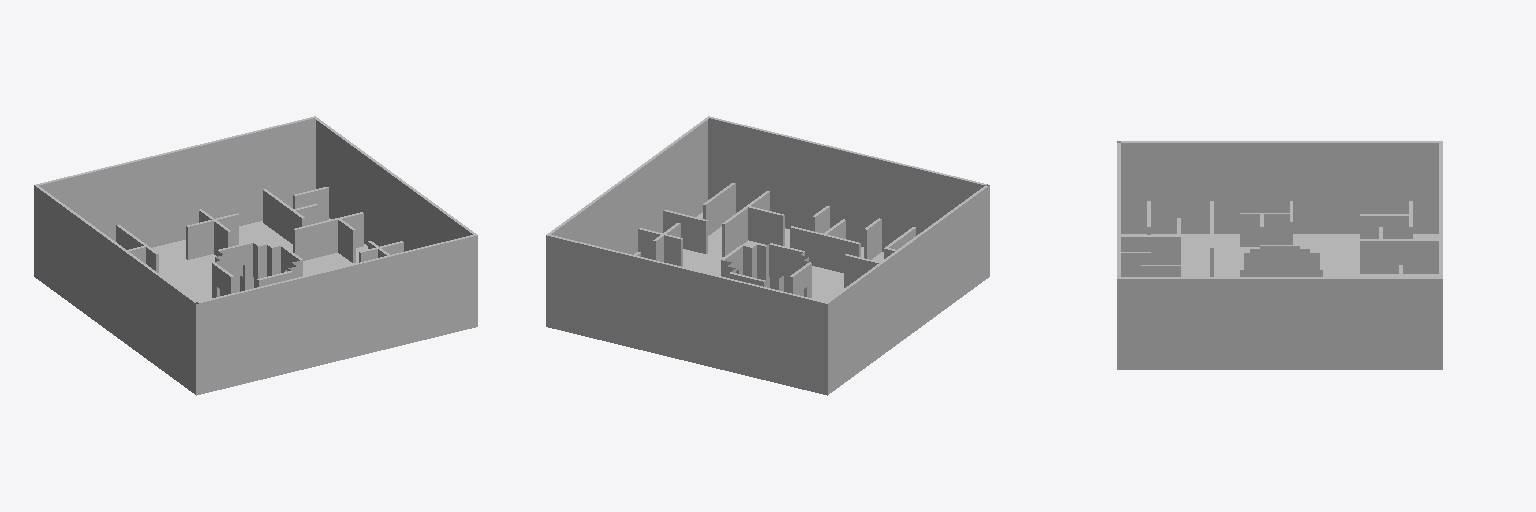
The model's file is arenaTest.obj.
3 views of the same model, side by side, from view 1: azimuth 30°, elevation 25°; view 2: azimuth 150°, elevation 25°; view 3: azimuth 270°, elevation 25° (orthographic).
Parts seen in each view (by area): view 1: Plane; view 2: Plane; view 3: Plane.
Part boxes in pixels (bbox=[...]): Plane: bbox=[34, 116, 477, 395]; Plane: bbox=[546, 116, 989, 395]; Plane: bbox=[1117, 141, 1442, 369].
Size of the model in its own units: 815 by 254 by 815.